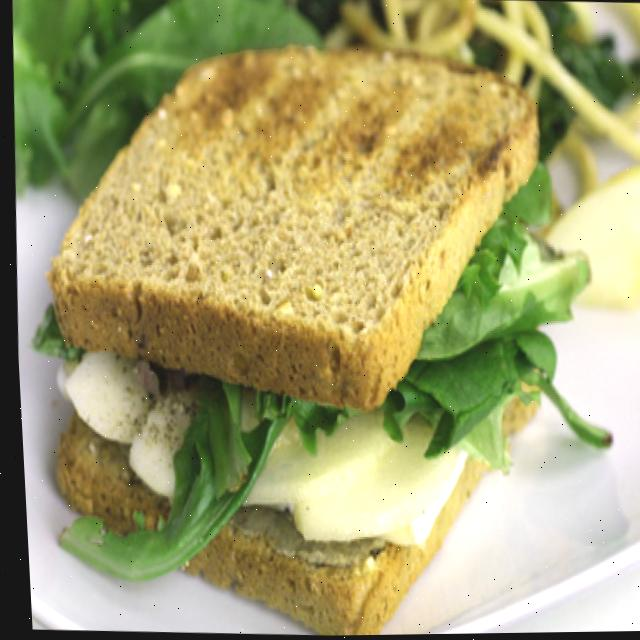三明治: (38, 69, 556, 625)
